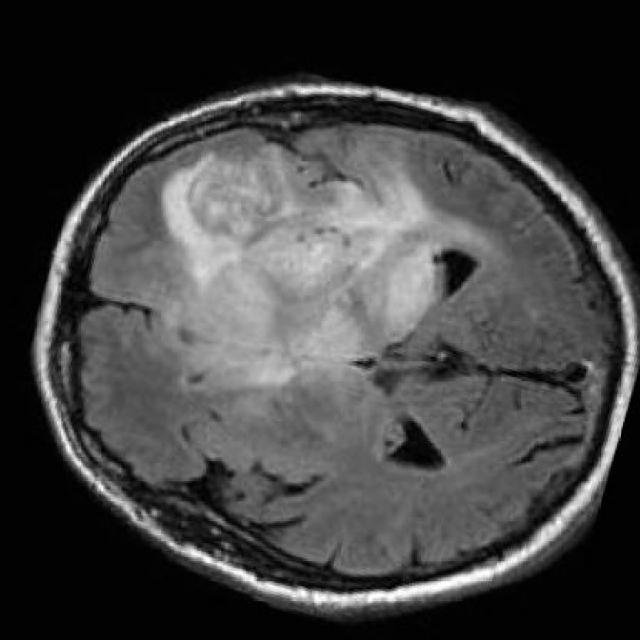Brain-Tumor: (161, 125, 484, 399)
